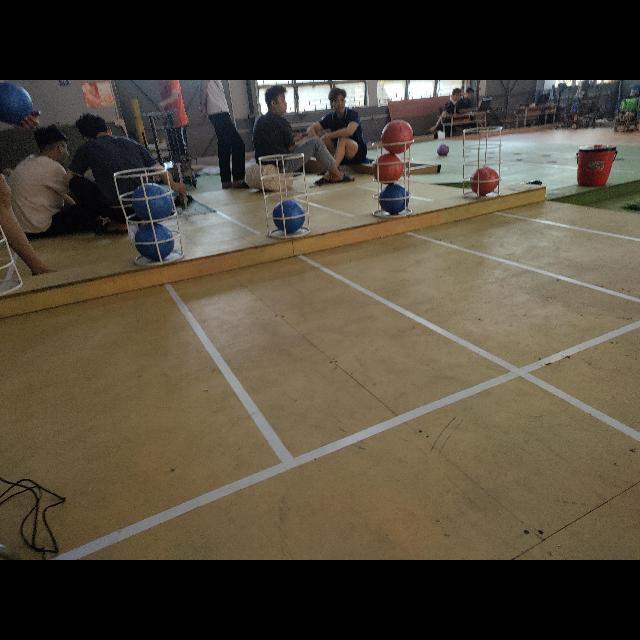B: (130, 182, 172, 220), (134, 222, 174, 260), (272, 200, 306, 232), (378, 183, 409, 213)
R: (382, 119, 414, 153), (372, 154, 404, 182), (469, 167, 498, 195)
